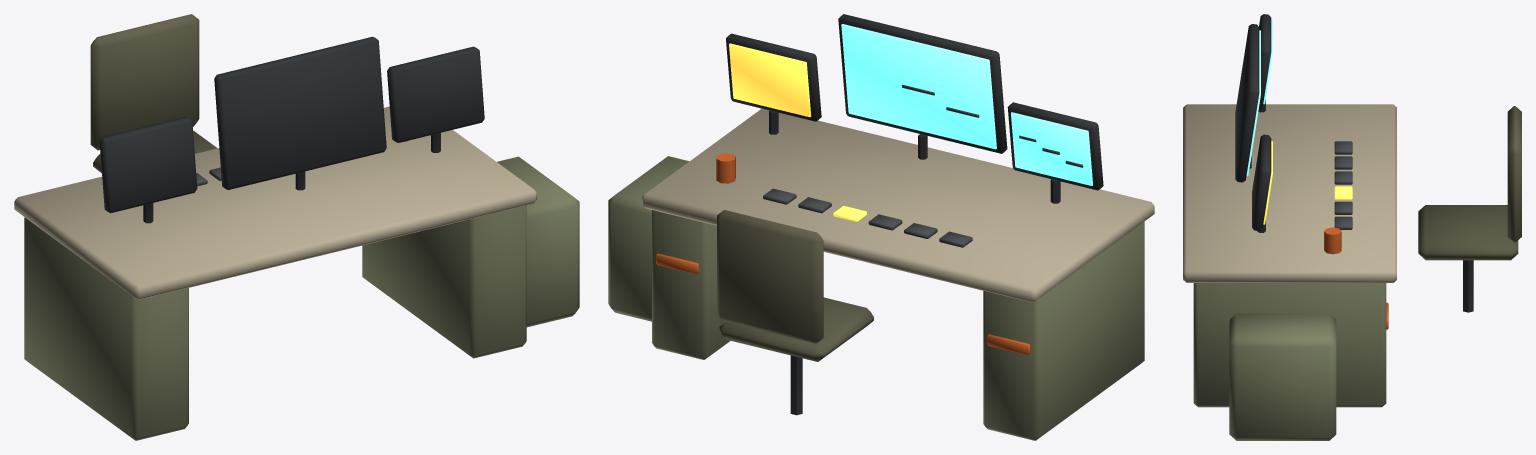
File: bench_headquarters.glb
3 renders of one model, left to right at view 1: azimuth 30°, elevation 25°; view 2: azimuth 150°, elevation 25°; view 3: azimuth 270°, elevation 25°, orthographic. The views are drawn at different scales.
Visible parts, largest first — view 1: bench_headquarters; view 2: bench_headquarters; view 3: bench_headquarters.
Part boxes in pixels (x1,y1,x2,y2): bench_headquarters: (14,14,579,440); bench_headquarters: (608,14,1154,440); bench_headquarters: (1183,14,1521,440).
Size of the model in its own units: 1.32 by 0.8446 by 0.95.
2 materials, 2 textured.
